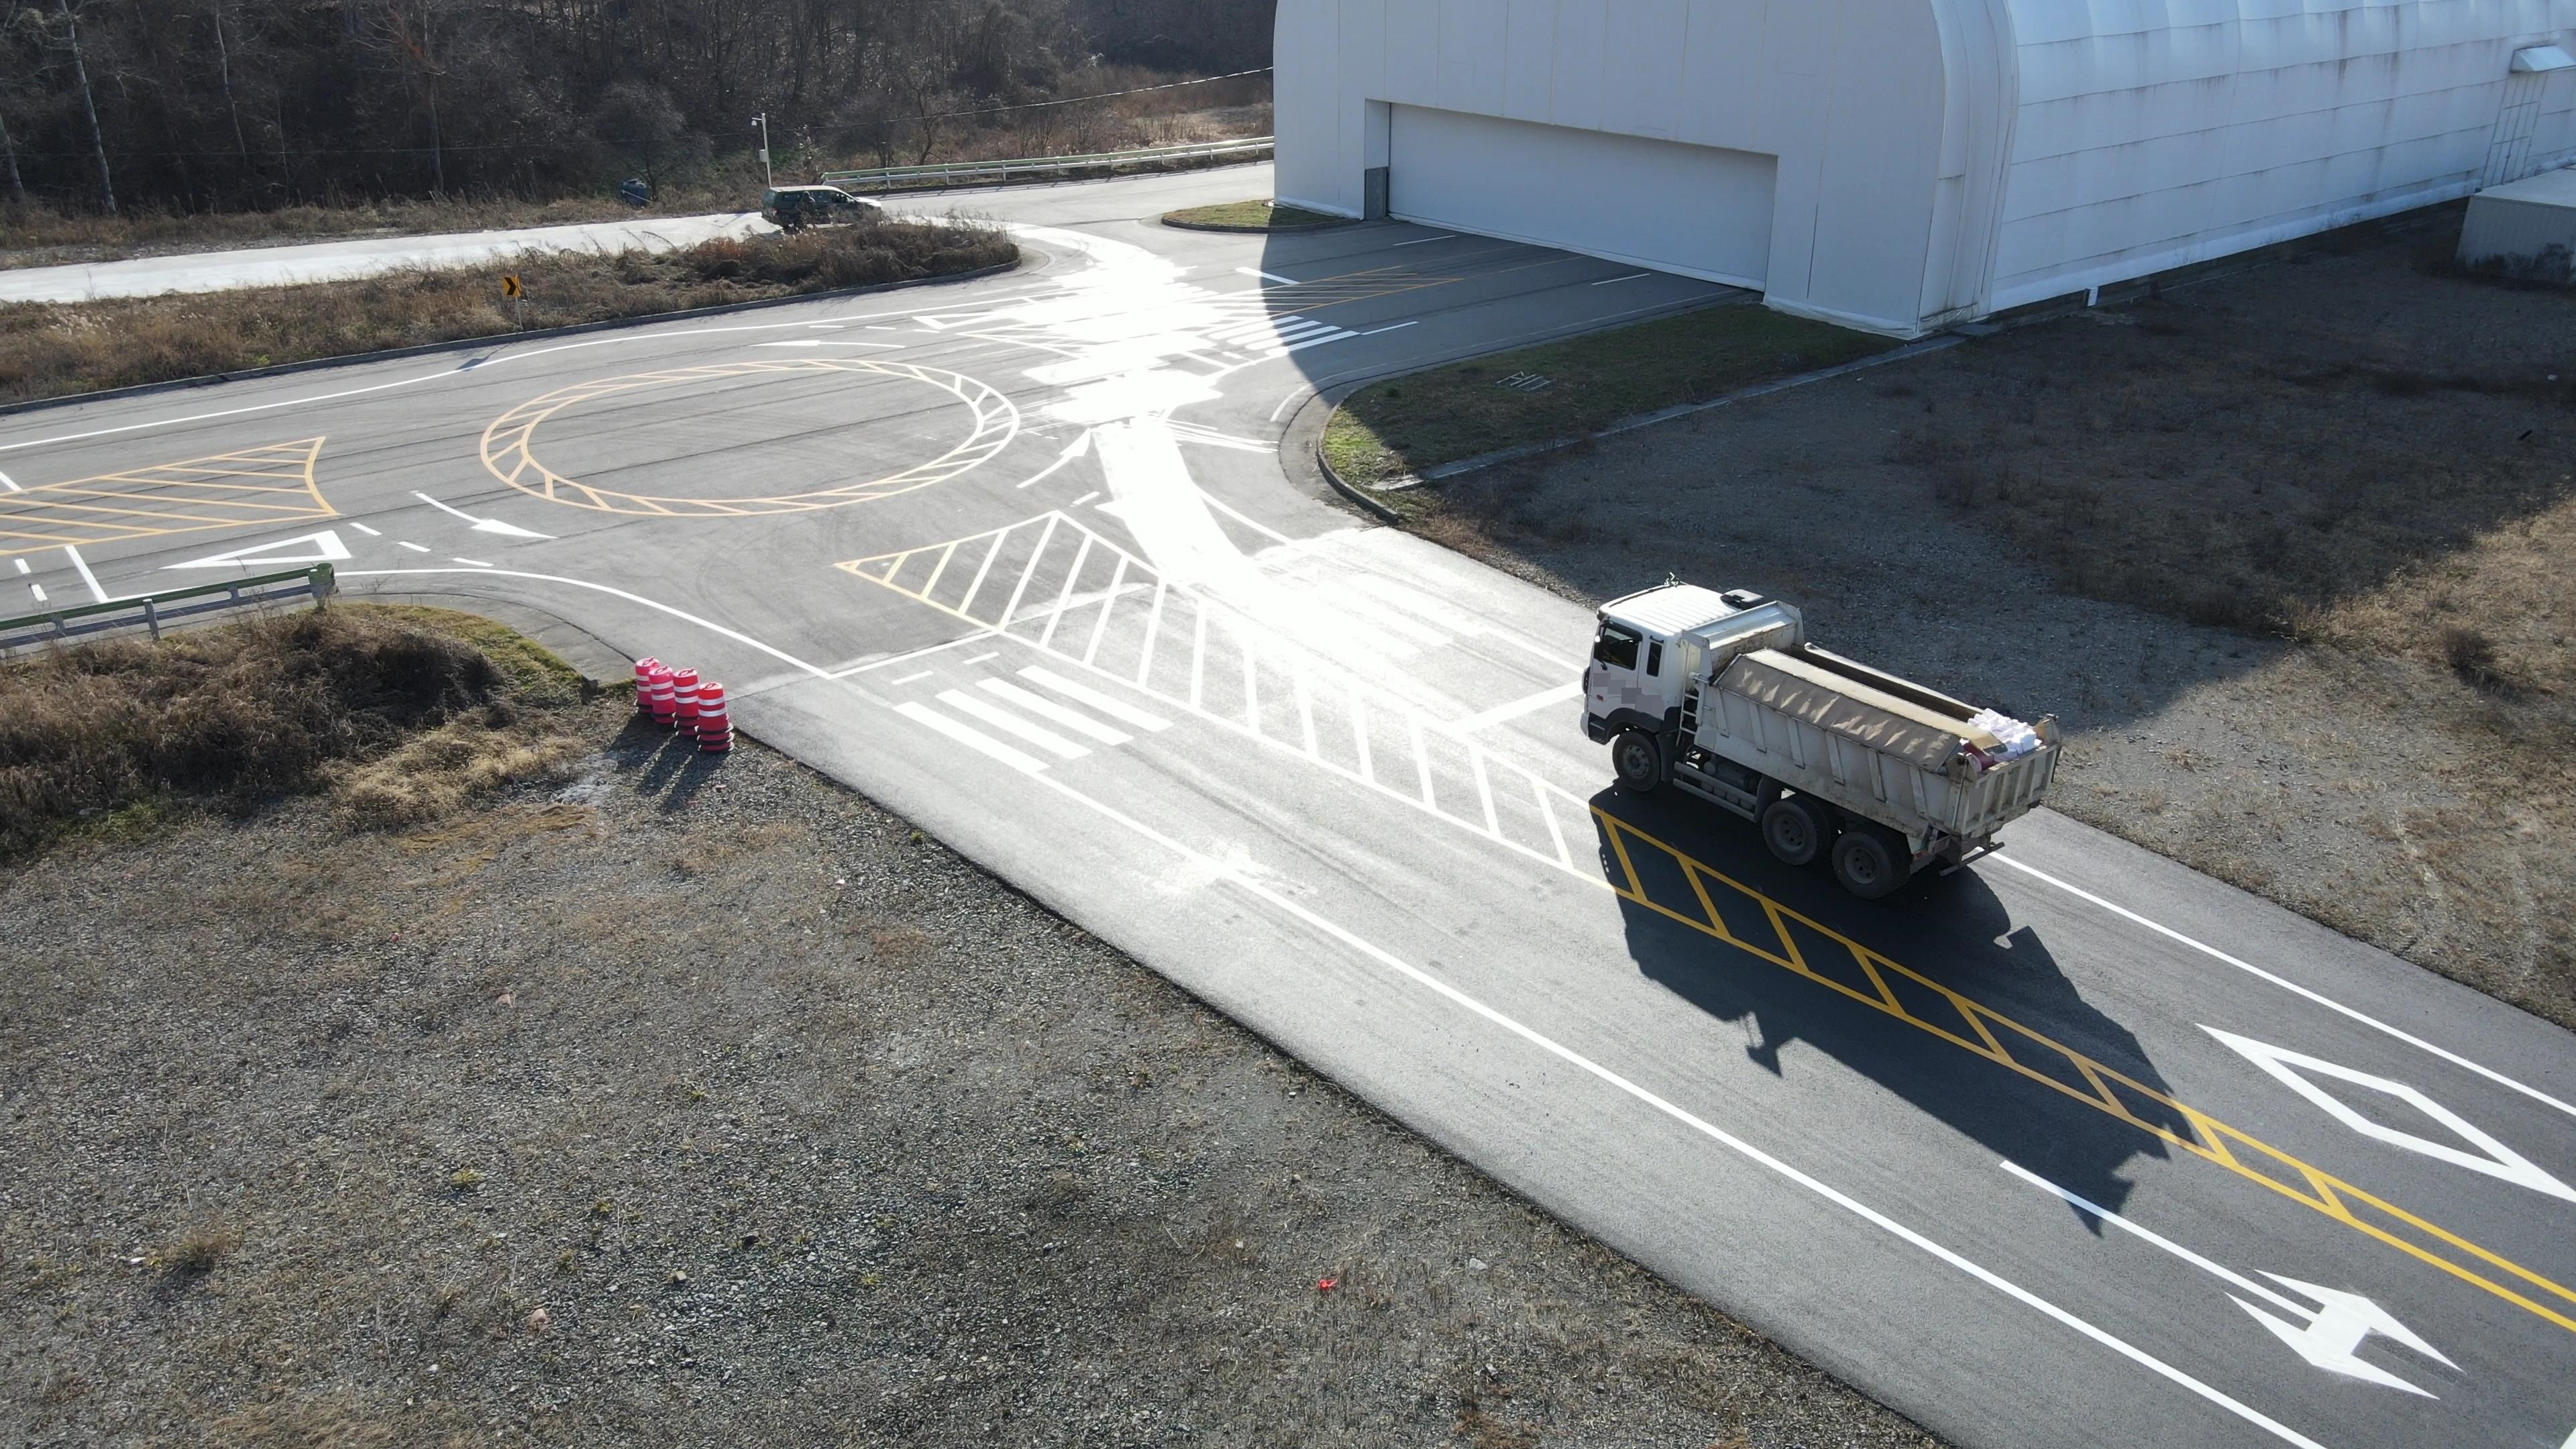불법차량: (1575, 575, 2065, 905)
